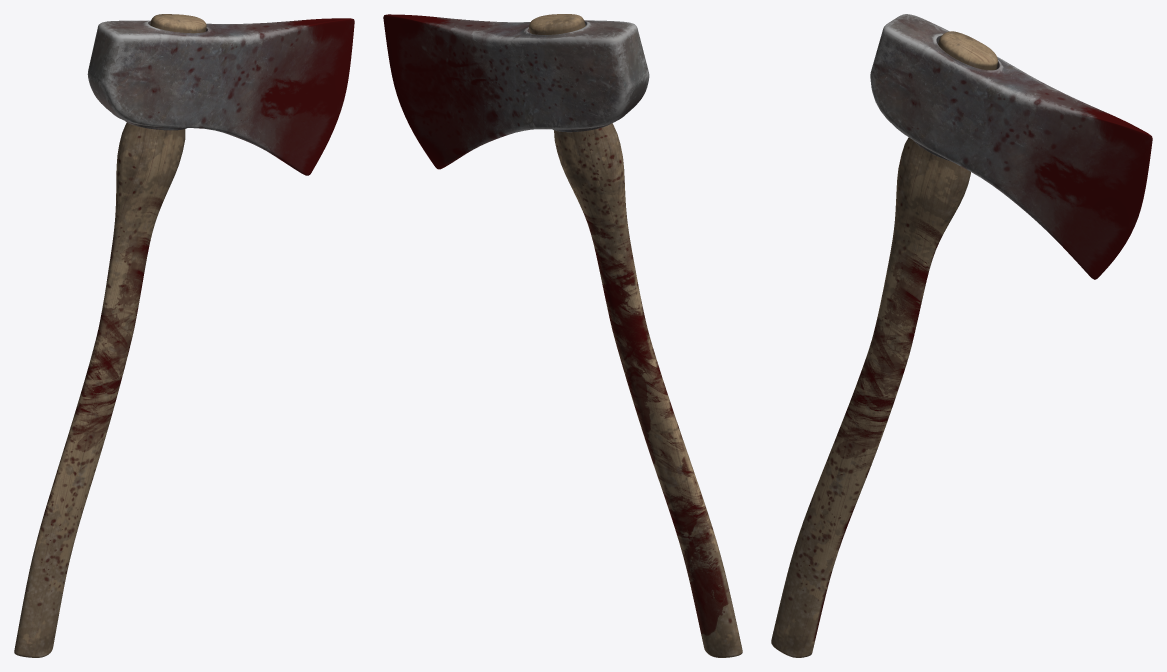
Rendered from bloody_axe (1).glb.
The picture shows the model from 3 angles, left to right: view 1: azimuth 30°, elevation 25°; view 2: azimuth 150°, elevation 25°; view 3: azimuth 330°, elevation 25°; orthographic projection. The views are drawn at different scales.
Parts seen in each view (by area): view 1: Object_2; view 2: Object_2; view 3: Object_2.
Boxes of the visible parts, x1,y1,x2,y2 form: Object_2: [14, 14, 354, 657]; Object_2: [383, 14, 742, 657]; Object_2: [771, 14, 1152, 657].
Bounding box in the file's own units: 10.32 × 17.09 × 1.39.
1 material, 1 textured.
